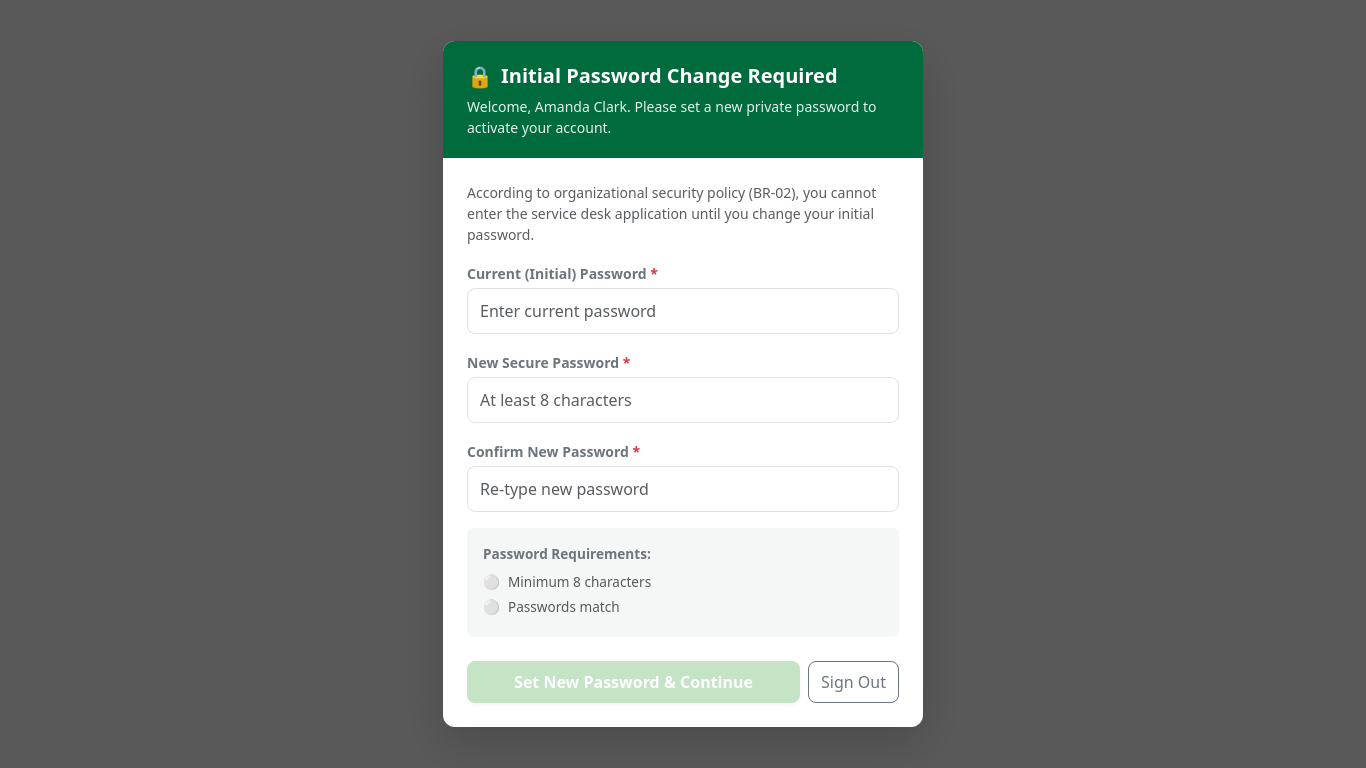
Test: Lab 3 MandatoryPasswordChangeModal Component (UI-02, BR-02, AC-03) › keeps submit button disabled until password complexity rules are satisfied
Expected: the button "Set New Password & Continue" is disabled, x1=467 y1=661 x2=800 y2=703
Note: Fill current password
Step 1. Type "Password123!" into the password field with placeholder "Enter current password" → point(683, 311), box x1=467 y1=288 x2=899 y2=334
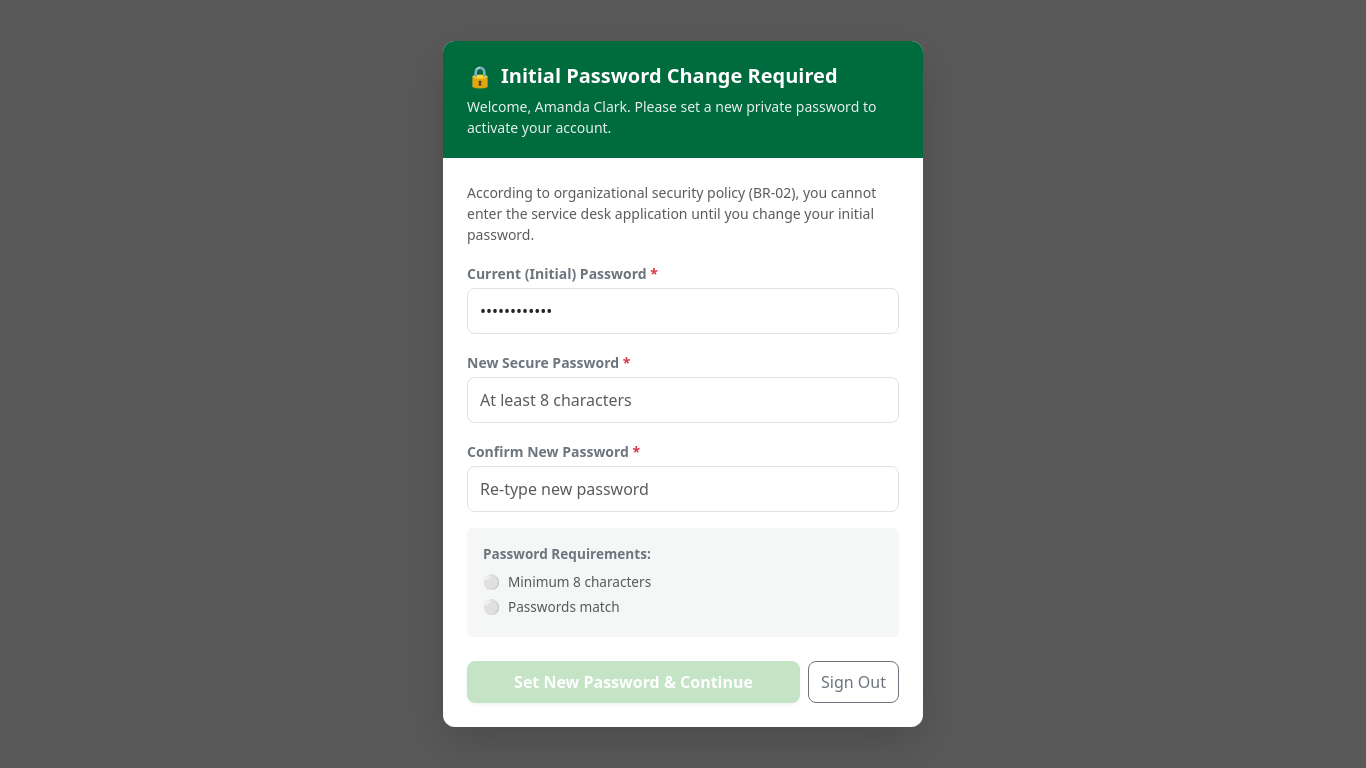
Expected: the button "Set New Password & Continue" is disabled, x1=467 y1=661 x2=800 y2=703
Note: Fill too-short new password
Step 2. Type "short" into the password field with placeholder "At least 8 characters" → point(683, 400), box x1=467 y1=377 x2=899 y2=423
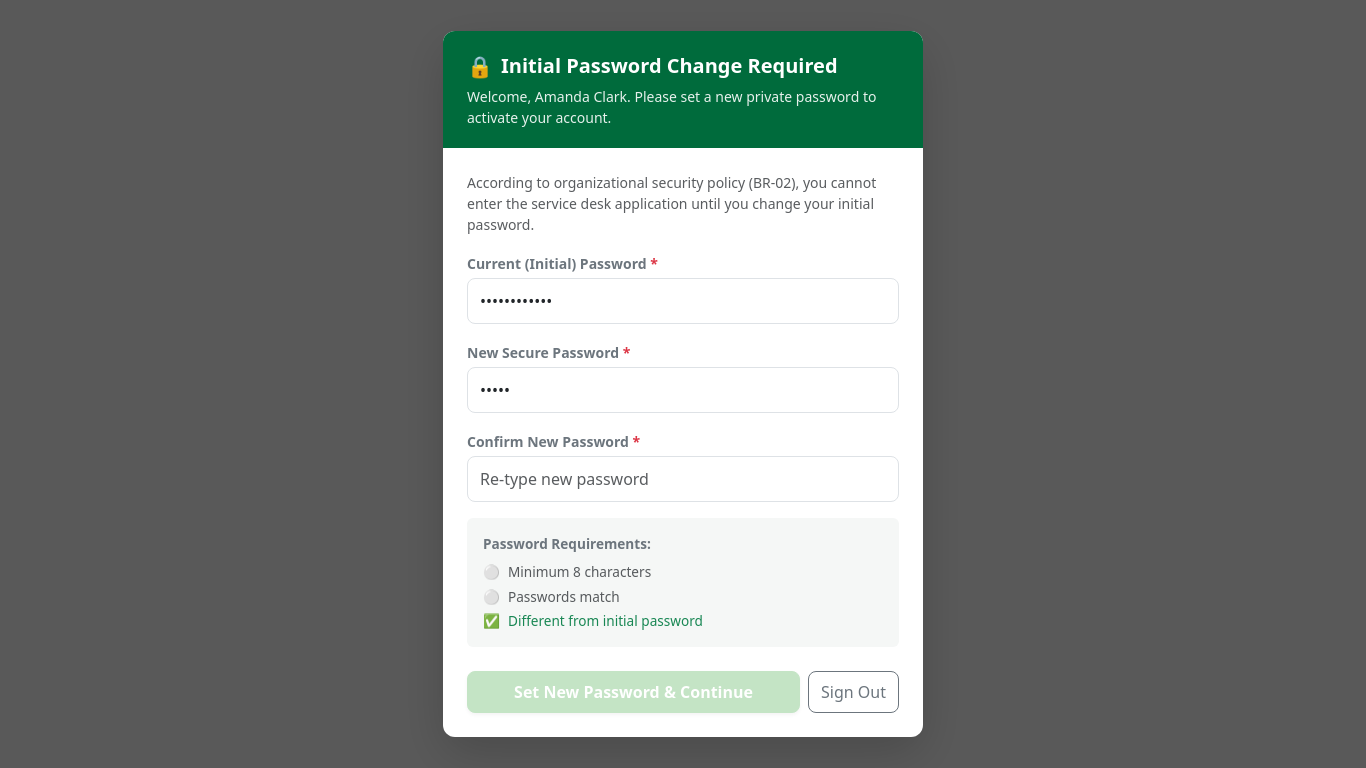
Step 3. Type "short" into the password field with placeholder "Re-type new password" → point(683, 479), box x1=467 y1=456 x2=899 y2=502
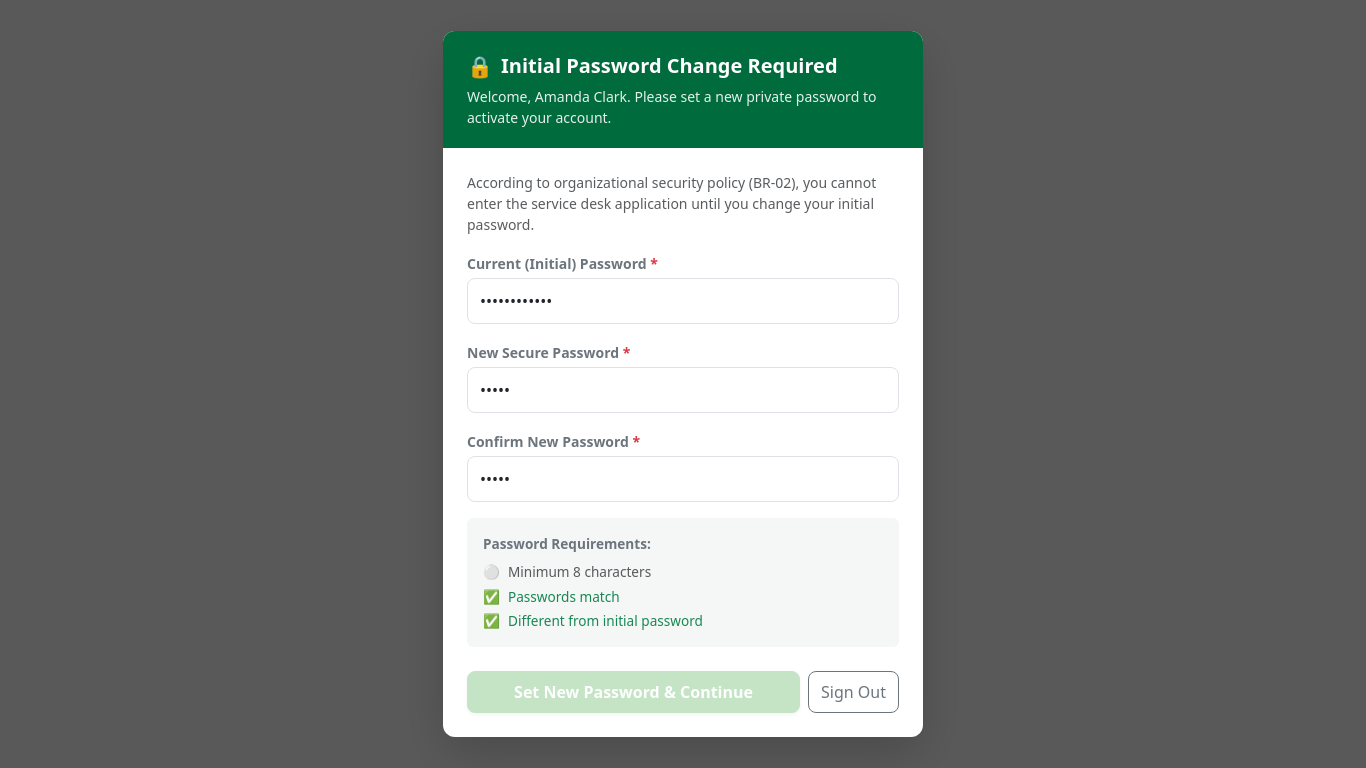
Expected: the button "Set New Password & Continue" is disabled, x1=467 y1=671 x2=800 y2=713
Step 4. Type "BrandNewPassword2026!" into the password field with placeholder "At least 8 characters" below "New Secure Password" → point(683, 390), box x1=467 y1=367 x2=899 y2=413
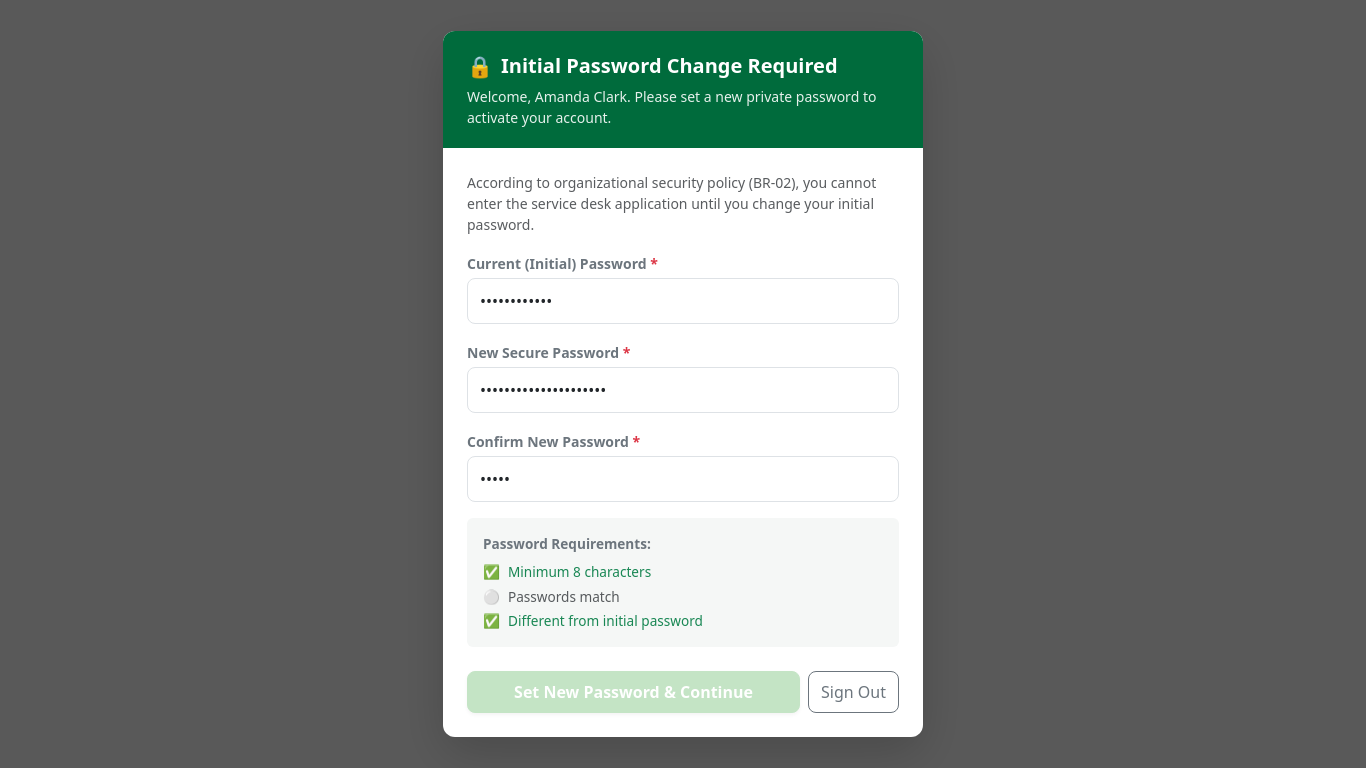
Step 5. Type "BrandNewPassword2026!" into the password field with placeholder "Re-type new password" below "Confirm New Password" → point(683, 479), box x1=467 y1=456 x2=899 y2=502
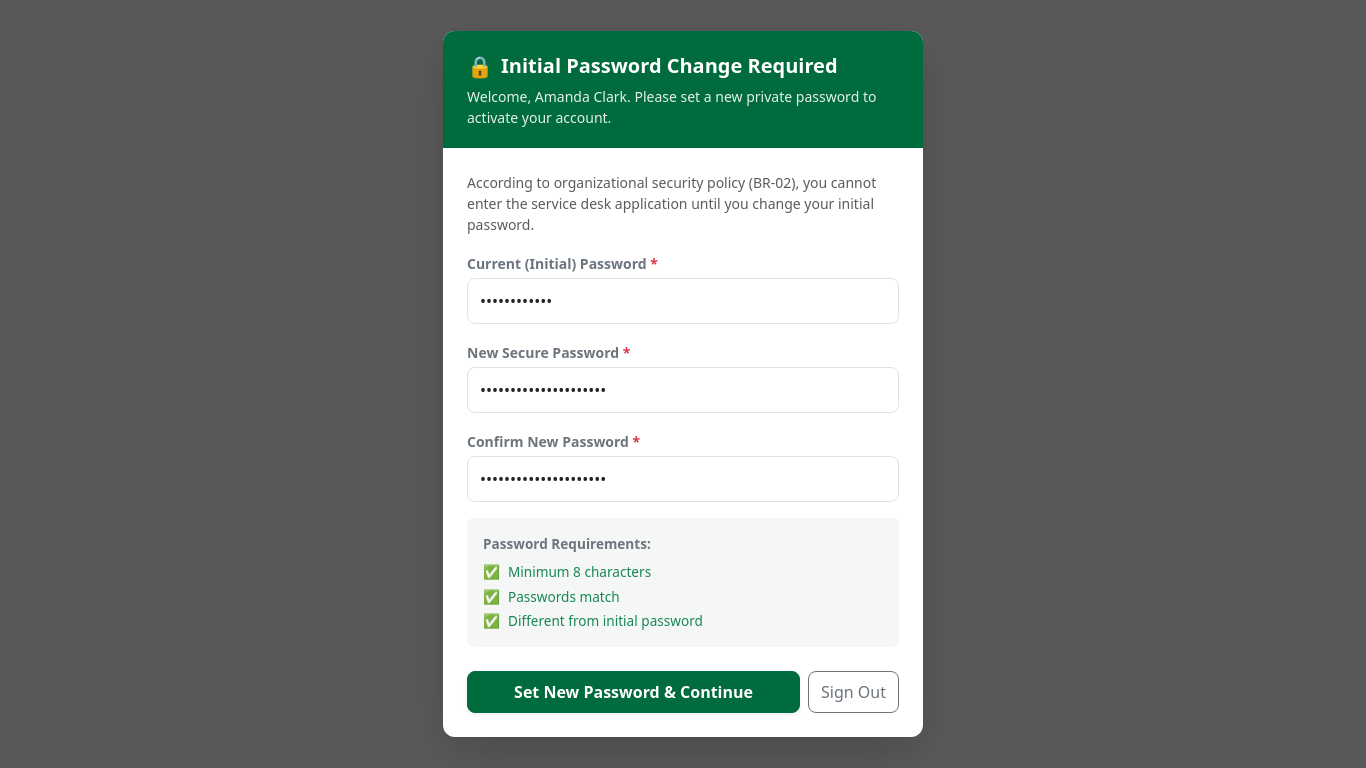
Expected: the button "Set New Password & Continue" is enabled, x1=467 y1=671 x2=800 y2=713
